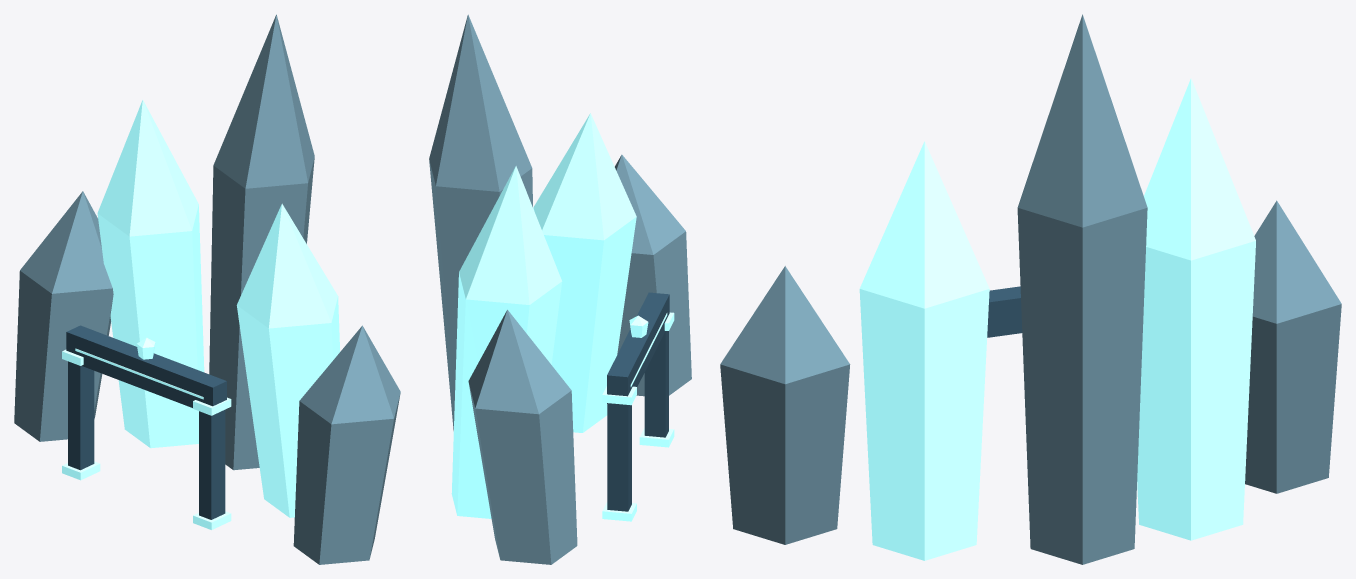
File: Landmark_FrostboundGlacier.glb
3 views of the same model, side by side, from view 1: azimuth 30°, elevation 25°; view 2: azimuth 150°, elevation 25°; view 3: azimuth 270°, elevation 25° (orthographic). The views are drawn at different scales.
Parts seen in each view (by area): view 1: Landmark_FrostboundGlacier_FrostboundGlacier_accent_5_1, Landmark_FrostboundGlacier_FrostboundGlacier_stone_5_1, Landmark_FrostboundGlacier_FrostboundGlacier_stone_5_2, Landmark_FrostboundGlacier_FrostboundGlacier_dark_5_1; view 2: Landmark_FrostboundGlacier_FrostboundGlacier_accent_5_1, Landmark_FrostboundGlacier_FrostboundGlacier_stone_5_1, Landmark_FrostboundGlacier_FrostboundGlacier_stone_5_2, Landmark_FrostboundGlacier_FrostboundGlacier_dark_5_1; view 3: Landmark_FrostboundGlacier_FrostboundGlacier_accent_5_1, Landmark_FrostboundGlacier_FrostboundGlacier_stone_5_1, Landmark_FrostboundGlacier_FrostboundGlacier_stone_5_2, Landmark_FrostboundGlacier_FrostboundGlacier_dark_5_1.
Part boxes in pixels (box(x1,y1,x2,y2)): Landmark_FrostboundGlacier_FrostboundGlacier_accent_5_1: box(62, 99, 340, 529); Landmark_FrostboundGlacier_FrostboundGlacier_stone_5_1: box(209, 14, 400, 564); Landmark_FrostboundGlacier_FrostboundGlacier_stone_5_2: box(14, 191, 113, 441); Landmark_FrostboundGlacier_FrostboundGlacier_dark_5_1: box(66, 325, 226, 519); Landmark_FrostboundGlacier_FrostboundGlacier_accent_5_1: box(451, 113, 674, 521); Landmark_FrostboundGlacier_FrostboundGlacier_stone_5_1: box(429, 14, 691, 430); Landmark_FrostboundGlacier_FrostboundGlacier_stone_5_2: box(468, 309, 577, 564); Landmark_FrostboundGlacier_FrostboundGlacier_dark_5_1: box(607, 292, 669, 511); Landmark_FrostboundGlacier_FrostboundGlacier_accent_5_1: box(859, 78, 1255, 560); Landmark_FrostboundGlacier_FrostboundGlacier_stone_5_1: box(720, 14, 1147, 564); Landmark_FrostboundGlacier_FrostboundGlacier_stone_5_2: box(1245, 200, 1341, 493); Landmark_FrostboundGlacier_FrostboundGlacier_dark_5_1: box(987, 286, 1022, 337).
Bounding box in the file's own units: 62.2 × 114 × 118.
